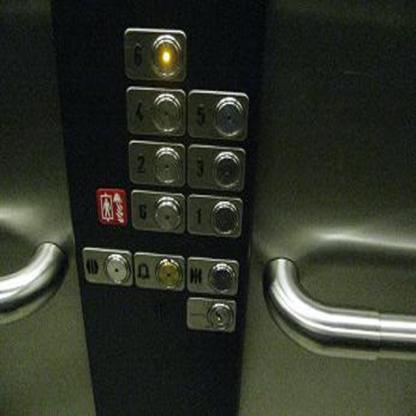1: (186, 192, 242, 238)
2: (127, 138, 187, 187)
3: (186, 142, 245, 193)
4: (125, 85, 185, 138)
5: (187, 88, 249, 140)
6: (122, 26, 188, 81)
G: (129, 187, 186, 234)
alarm: (132, 250, 186, 290)
bt_keyhole: (186, 296, 239, 336)
close: (185, 253, 239, 296)
open: (82, 242, 133, 288)
